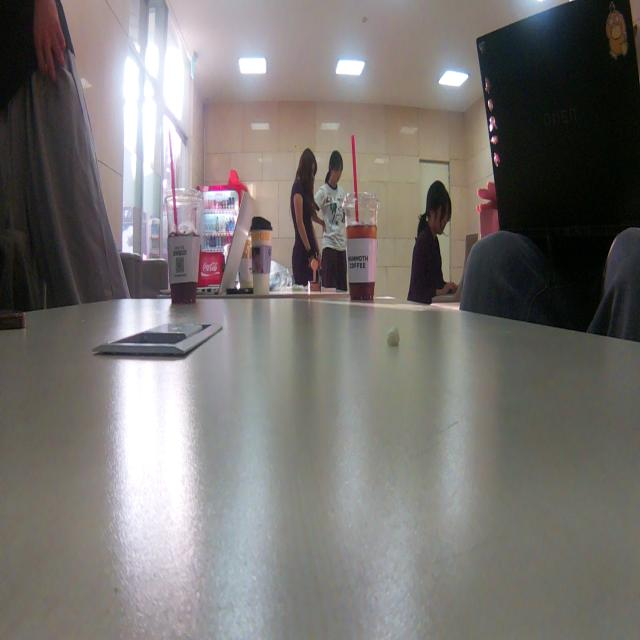target: (308, 258, 322, 295)
